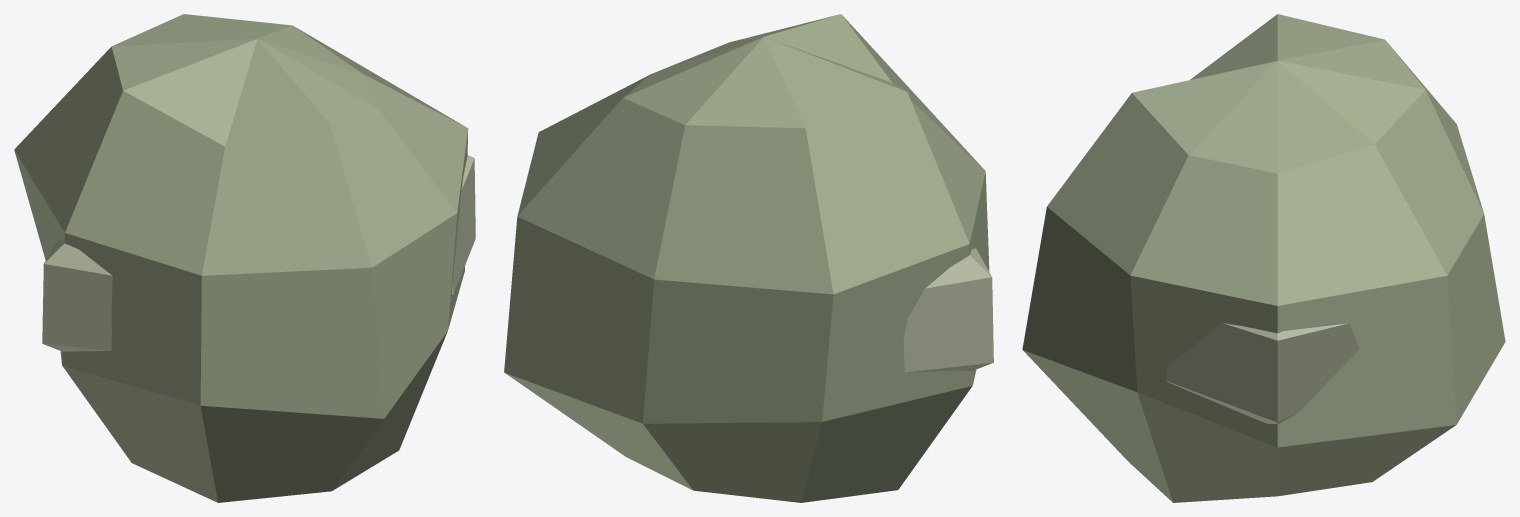
Rendered from enemy-grunt.glb.
3 renders of one model, left to right at view 1: azimuth 30°, elevation 25°; view 2: azimuth 150°, elevation 25°; view 3: azimuth 270°, elevation 25°, orthographic. The views are drawn at different scales.
Parts seen in each view (by area): view 1: dome, body; view 2: dome, body; view 3: dome, body.
Boxes of the visible parts, <box> form: dome: <box>14,14,468,502</box>; body: <box>42,155,475,351</box>; dome: <box>504,14,989,502</box>; body: <box>903,248,993,372</box>; dome: <box>1022,14,1505,502</box>; body: <box>1165,323,1359,424</box>.
Size of the model in its own units: 1.11 by 1.04 by 1.07.
